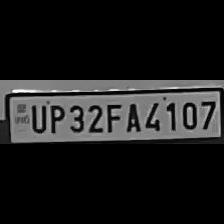0: (178, 98, 198, 130)
1: (162, 98, 178, 130)
2: (84, 100, 104, 134)
3: (65, 100, 85, 134)
4: (142, 98, 162, 132)
7: (198, 97, 216, 130)
A: (122, 100, 142, 132)
F: (104, 100, 122, 134)
P: (46, 100, 66, 134)
U: (26, 101, 46, 133)
